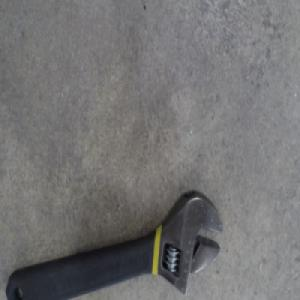AdjustableWrench: (6, 190, 225, 299)
